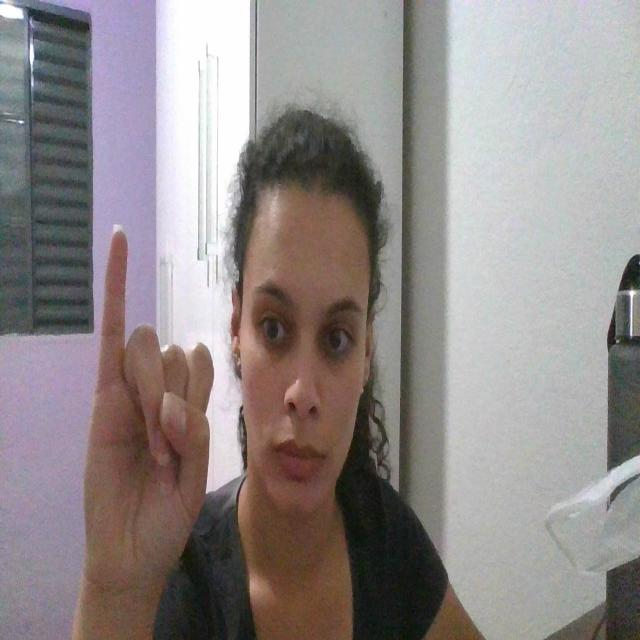I: (82, 210, 221, 590)
